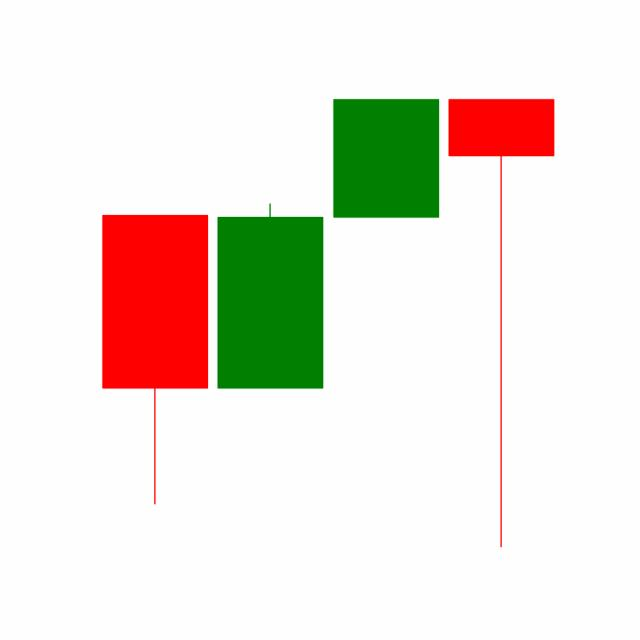Marubozu: (328, 97, 444, 219)
